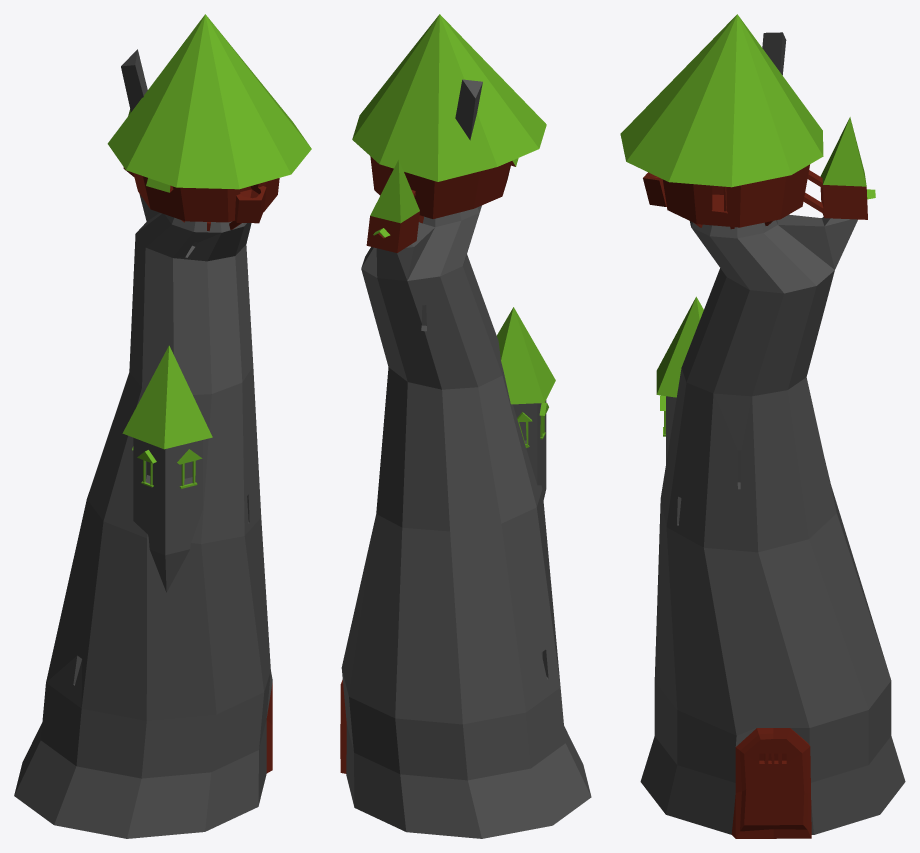
File: torn1.0.glb
3 views of the same model, side by side, from view 1: azimuth 30°, elevation 25°; view 2: azimuth 150°, elevation 25°; view 3: azimuth 270°, elevation 25° (orthographic). The views are drawn at different scales.
Visible parts, largest first — view 1: Cylinder; view 2: Cylinder; view 3: Cylinder.
Boxes of the visible parts, x1=… form: Cylinder: x1=14, y1=14, x2=311, y2=838; Cylinder: x1=340, y1=14, x2=591, y2=838; Cylinder: x1=620, y1=14, x2=905, y2=838.
Bounding box in the file's own units: 7.6 × 23.42 × 7.64.
